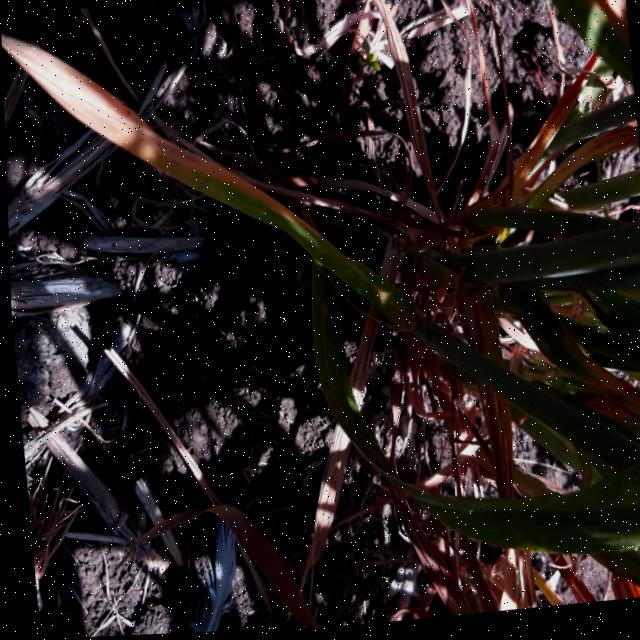black_stem_rust: (325, 0, 640, 627)
